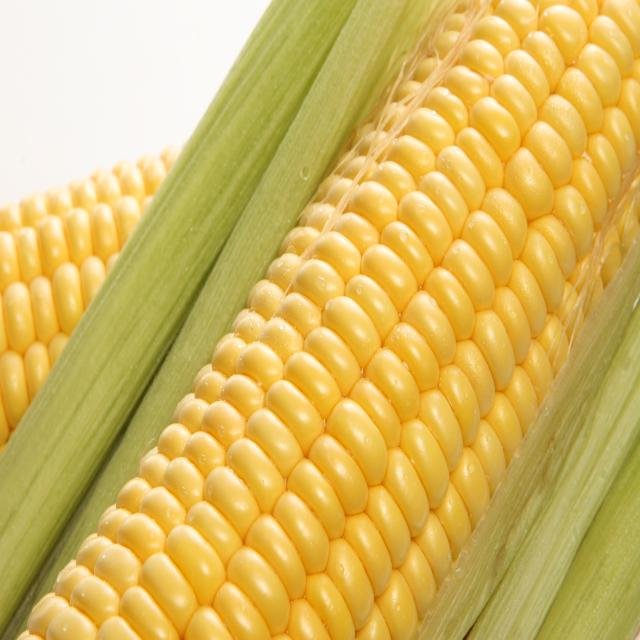Corn ear: (49, 0, 637, 640)
